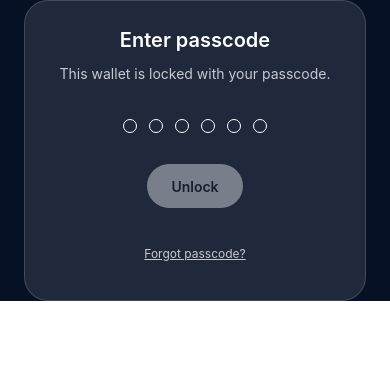
Test: lock screen (unlock flow) › the fifth wrong try starts the cooldown: the spec message with mm:ss, and the button shows the countdown
Replace the text in the password field named "Passcode" with "571936" at x=195, y=164, box [123,119,267,208]
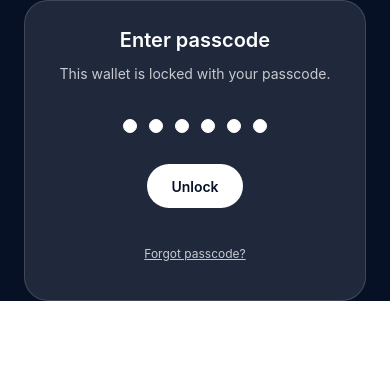
Click the button "Unlock" at x=195, y=186, box [147,164,243,208]
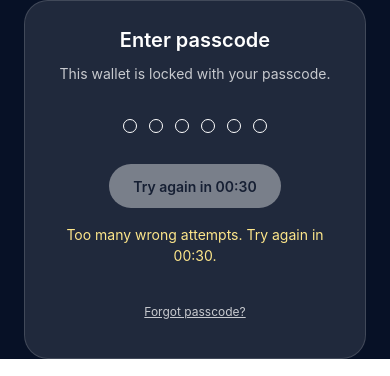
Expected: the button "Try again in 00:30" is disabled, [109,164,281,208]
